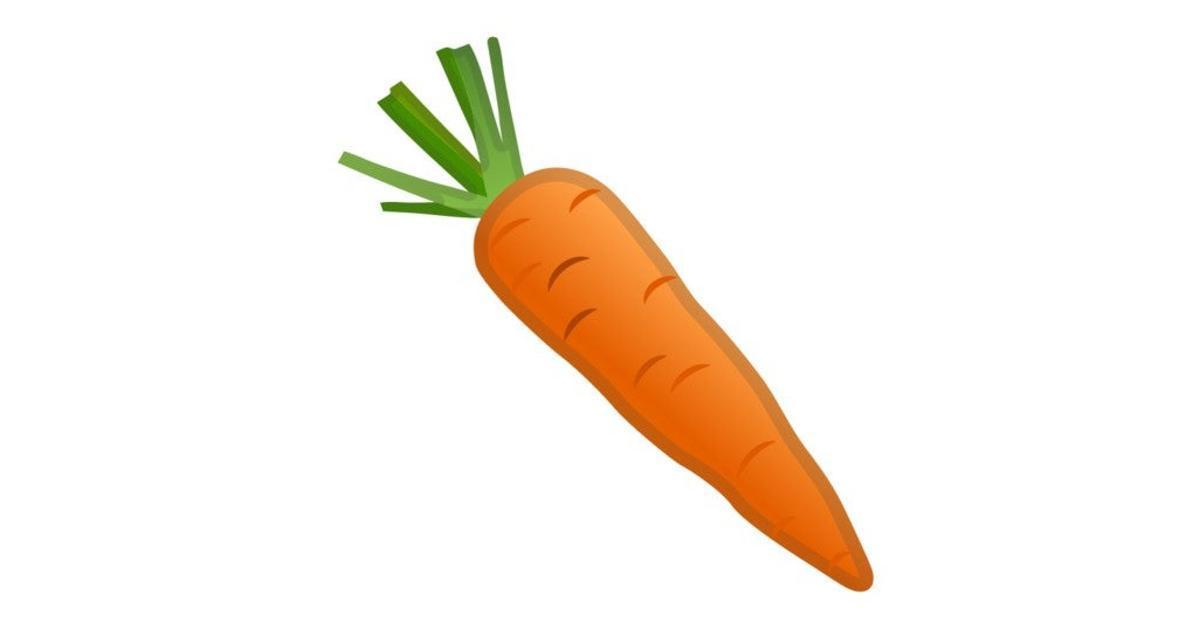carrot: (369, 88, 933, 587)
